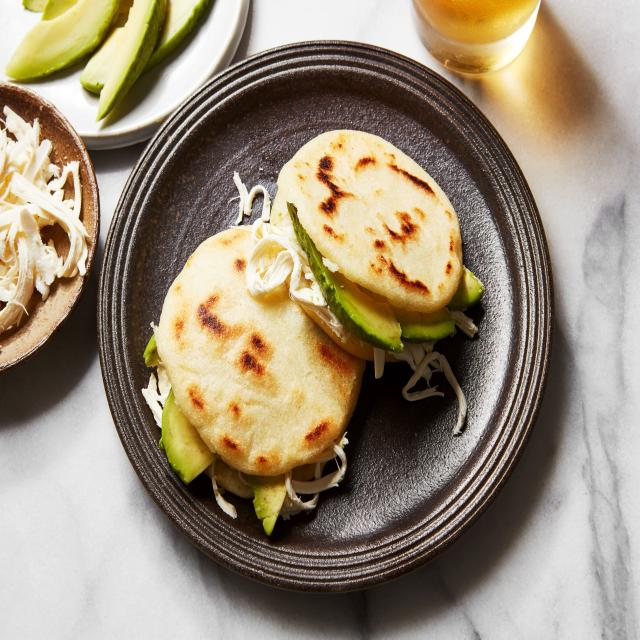arepa: (274, 116, 464, 347)
